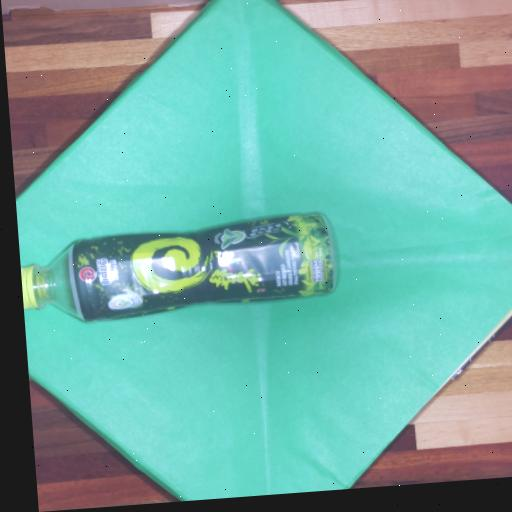bottle: (16, 198, 358, 350)
